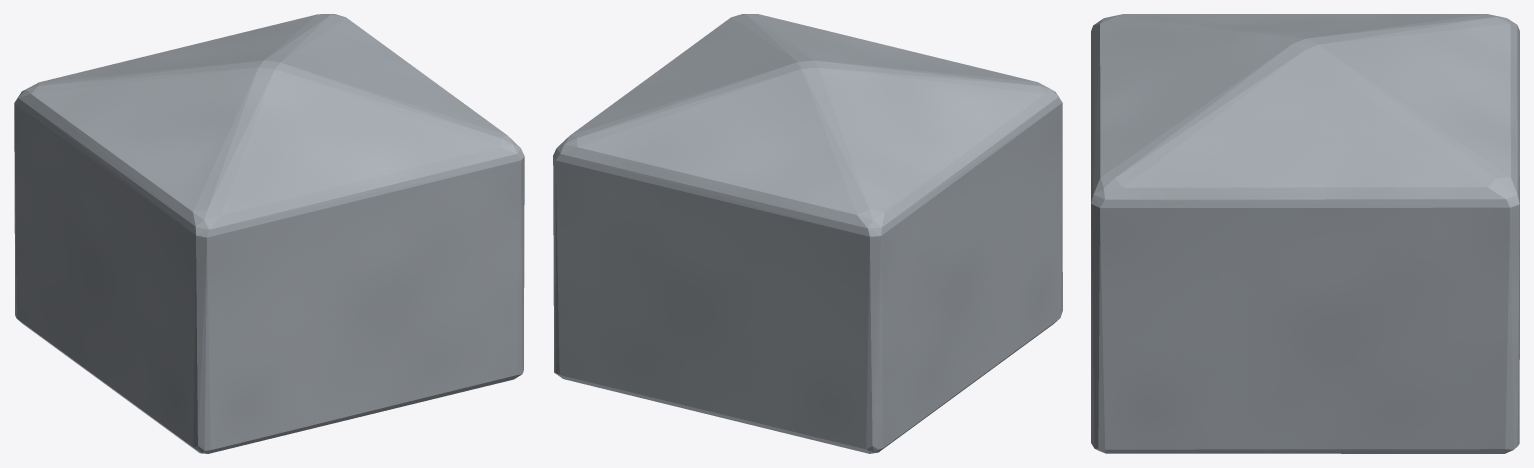
Rendered from steel-brick.glb.
The picture shows the model from 3 angles, left to right: view 1: azimuth 30°, elevation 25°; view 2: azimuth 150°, elevation 25°; view 3: azimuth 270°, elevation 25°; orthographic projection. The views are drawn at different scales.
Parts seen in each view (by area): view 1: IronBrick; view 2: IronBrick; view 3: IronBrick.
Part boxes in pixels (x1,y1,x2,y2): IronBrick: (14, 14, 524, 453); IronBrick: (553, 14, 1062, 453); IronBrick: (1091, 14, 1519, 453).
Size of the model in its own units: 0.5 by 0.415 by 0.5.
Materials: 1 (1 with a texture image).
